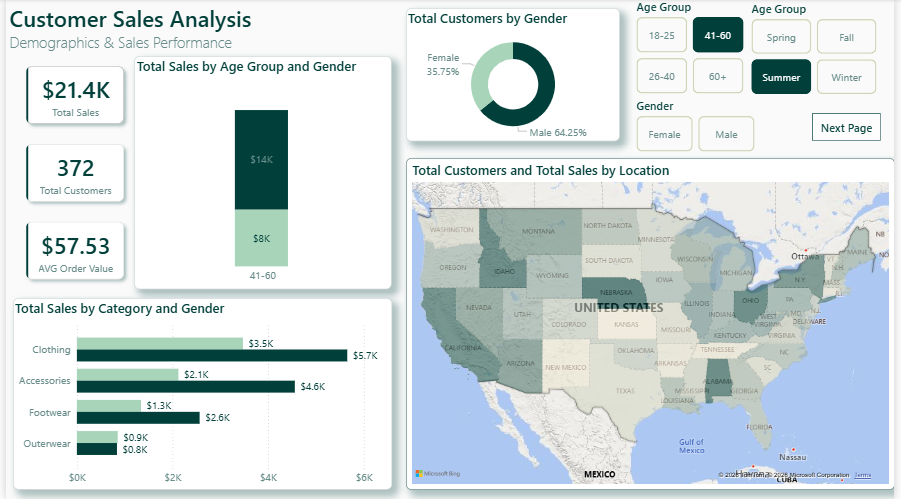

This screenshot's page, from the dashboard's own definition file:
{"tool":"powerbi","page":{"name":"Demographics & Sales Performance","canvas":[1280,720],"ordinal":0},"visuals":[{"type":"columnChart","fields":{"Category":["shopping_behavior_cleaned.Age Group"],"Y":["shopping_behavior_cleaned.Total Sales"],"Series":["shopping_behavior_cleaned.Gender"]},"box":[184.8,82.3,371.2,336],"z":0},{"type":"cardVisual","fields":{"Data":["_Measures .Total Sales","_Measures .Total Customers","_Measures .AVG Order Value"]},"box":[0,67.2,199.9,366.2],"z":1000},{"type":"donutChart","fields":{"Category":["shopping_behavior_cleaned.Gender"],"Y":["_Measures .Total Customers"]},"box":[576,13,308.2,191.5],"z":2000},{"type":"filledMap","fields":{"Category":["shopping_behavior_cleaned.Location"]},"box":[576,229,704.2,478.1],"z":3000},{"type":"clusteredBarChart","fields":{"Category":["shopping_behavior_cleaned.Category"],"Y":["_Measures .Total Sales"],"Series":["shopping_behavior_cleaned.Gender"]},"box":[10.1,430.6,545.8,276.5],"z":4000},{"type":"textbox","box":[0,0,398.1,109.2],"z":5000},{"type":"advancedSlicerVisual","title":"Gender","fields":{"Values":["shopping_behavior_cleaned.Gender"]},"box":[902.9,142.6,180,82.1],"z":6000},{"type":"advancedSlicerVisual","title":"Age Group","fields":{"Values":["shopping_behavior_cleaned.Age Group"]},"box":[902.9,0,165.6,142.6],"z":7000},{"type":"advancedSlicerVisual","title":"Age Group","fields":{"Values":["shopping_behavior_cleaned.Season"]},"box":[1068.5,2.9,191.5,139.7],"z":8000},{"type":"actionButton","box":[1160.6,164.2,99.4,40.3],"z":9000}]}

Visuals, with their boxes in screenshot pixels (x1, y1, x2, y2), scaled from the page's 1280x720 canvas onto the 901x499 screenshot:
columnChart - shopping_behavior_cleaned.Age Group x shopping_behavior_cleaned.Total Sales: bbox=[130, 57, 391, 290]
cardVisual - _Measures .Total Sales x _Measures .Total Customers: bbox=[0, 47, 141, 300]
donutChart - shopping_behavior_cleaned.Gender x _Measures .Total Customers: bbox=[405, 9, 622, 142]
filledMap - shopping_behavior_cleaned.Location: bbox=[405, 159, 900, 490]
clusteredBarChart - shopping_behavior_cleaned.Category x _Measures .Total Sales: bbox=[7, 298, 391, 490]
textbox: bbox=[0, 0, 280, 76]
"Gender" advancedSlicerVisual: bbox=[636, 99, 762, 156]
"Age Group" advancedSlicerVisual: bbox=[636, 0, 752, 99]
"Age Group" advancedSlicerVisual: bbox=[752, 2, 887, 99]
actionButton: bbox=[817, 114, 887, 142]
